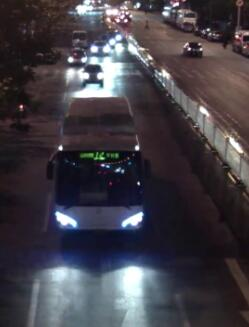bus: (44, 94, 153, 242), (172, 7, 199, 28)
car: (78, 61, 108, 88), (64, 46, 89, 67), (181, 38, 207, 58), (89, 38, 110, 57), (113, 39, 134, 58)
